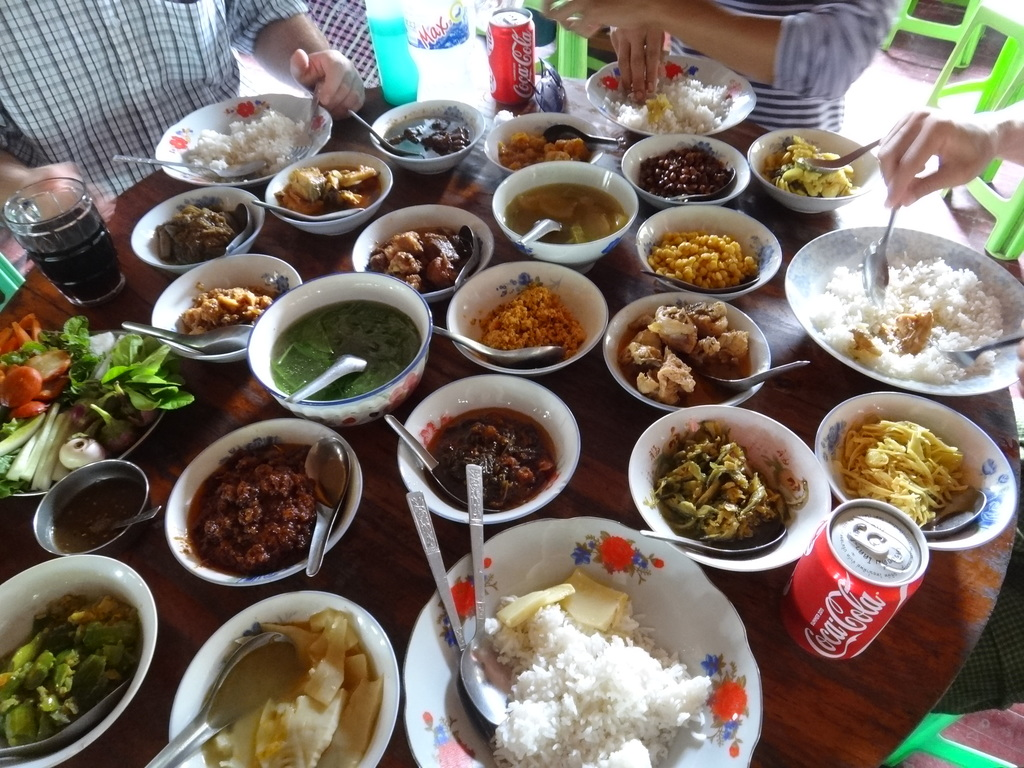person: (0, 0, 370, 250)
